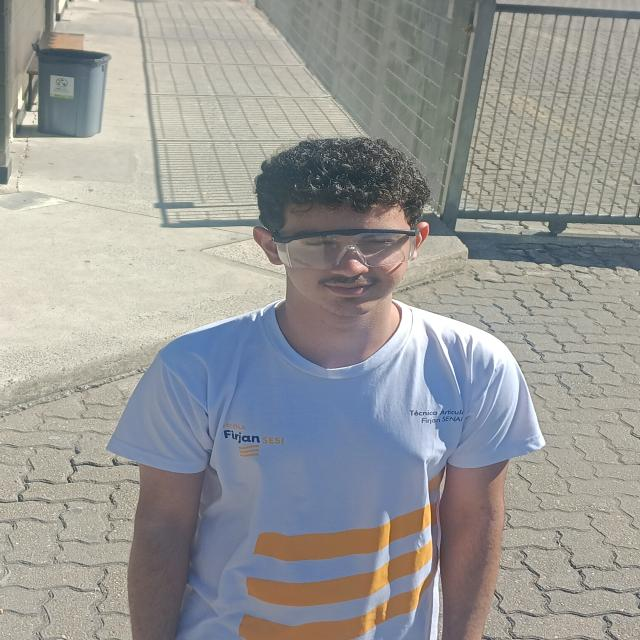oculos-epi: (273, 228, 417, 269)
